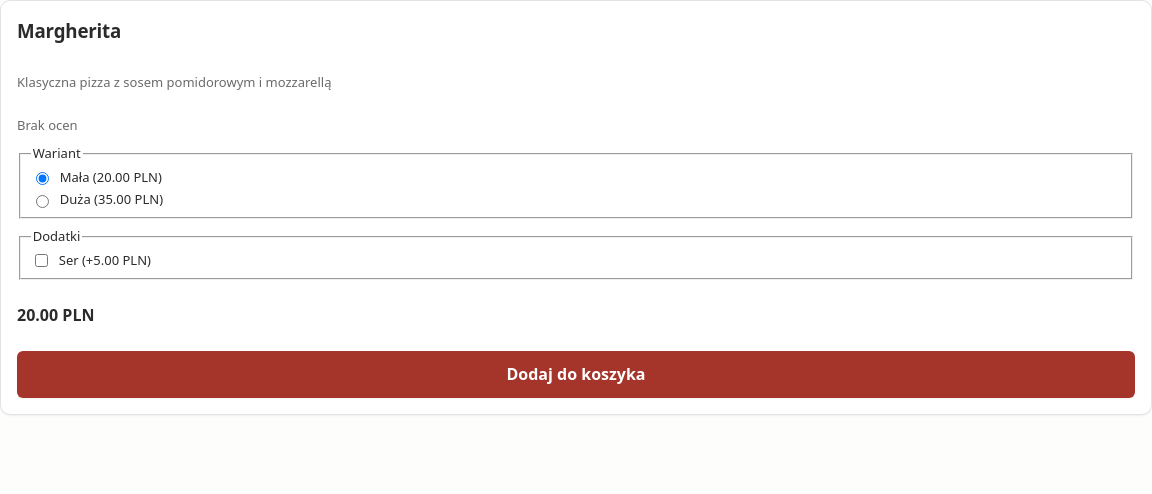
Test: MenuItemCard › clicking "Dodaj do koszyka" adds the item to the cart with the correct unitPriceAmount
This screenshot has width=1152, height=494.
Click the radio button labelled "Duża (35.00 PLN)".
click(42, 201)  # box [36, 195, 49, 208]
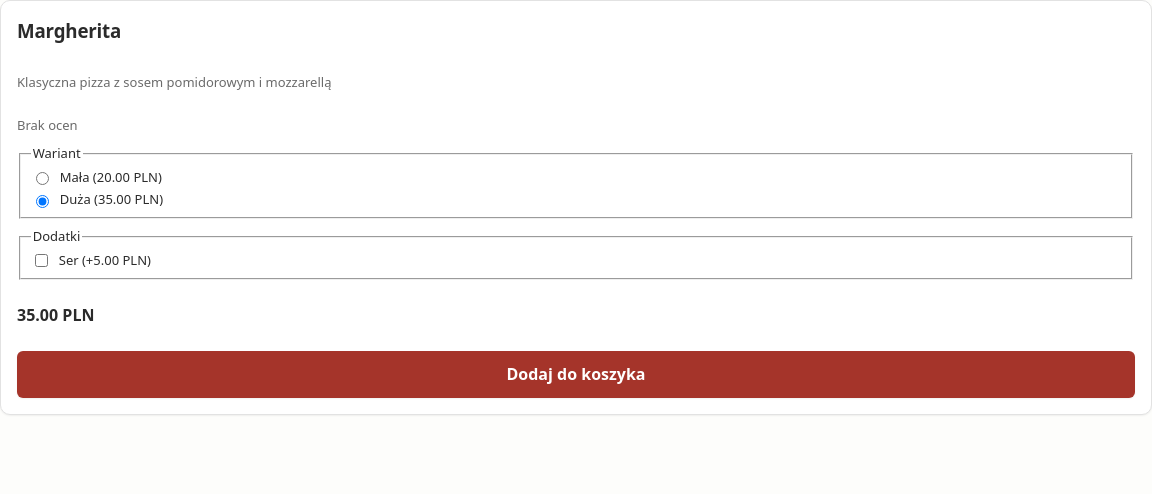
Click the checkbox labelled "Ser (+5.00 PLN)".
click(41, 260)  # box [35, 254, 48, 267]
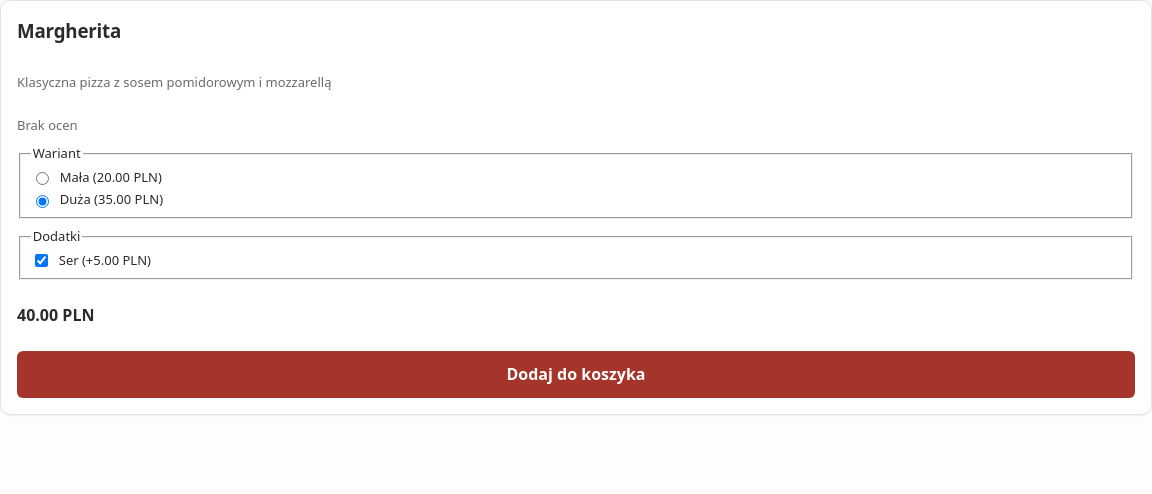
Click the button "Dodaj do koszyka".
click(576, 375)  # box [17, 351, 1135, 398]
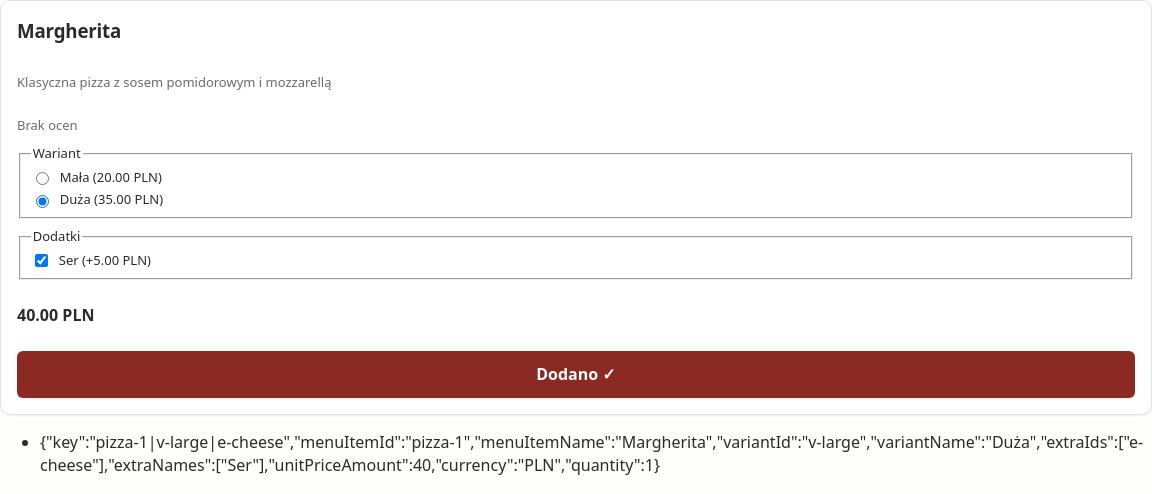
expect the number of list items with test id "cart-item" is 1: met, box [40, 431, 1151, 478]
